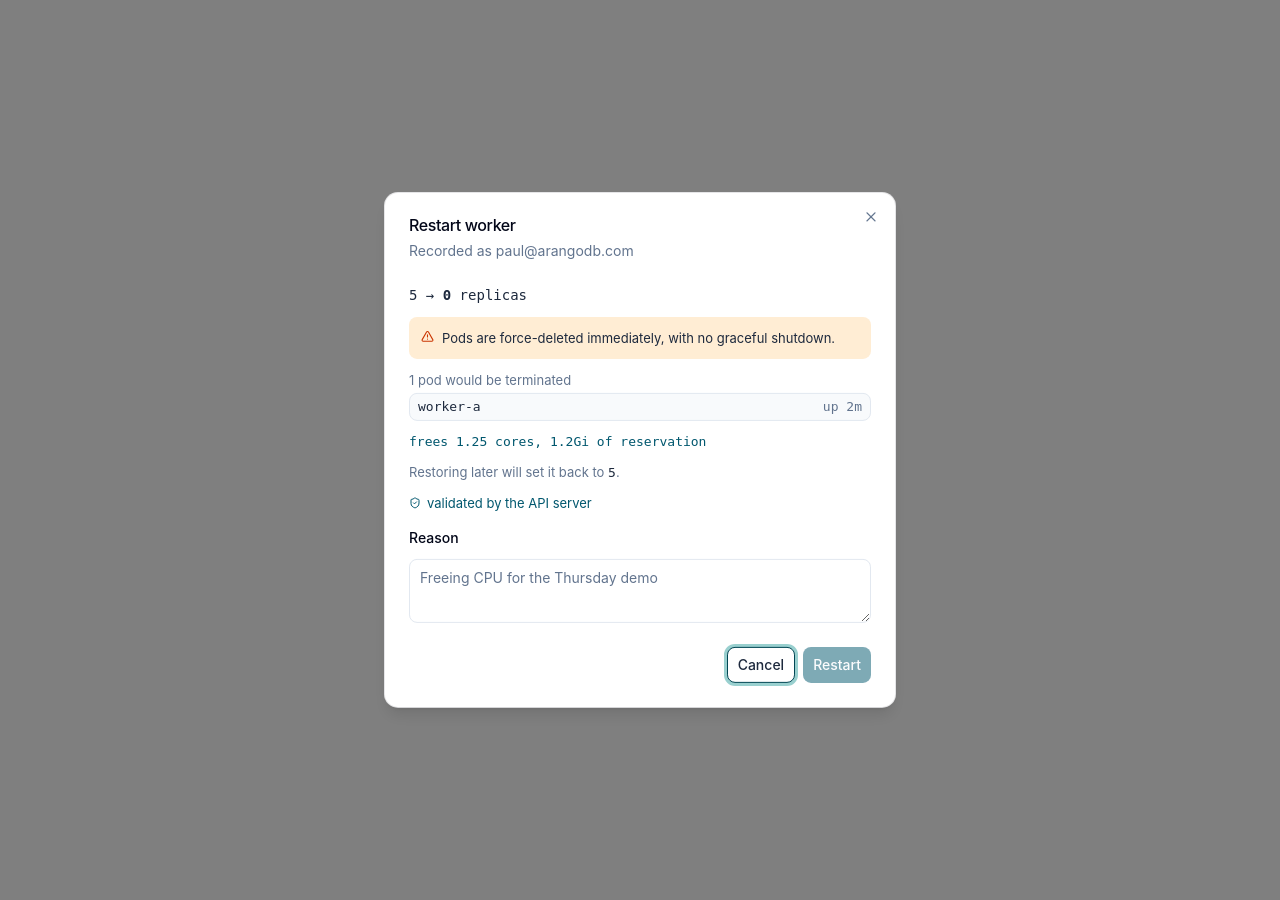
it: ActionDialog › does not accept a reason shorter than the backend allows
In the text box labelled "Reason": (640, 591) [409,559,871,623], type "ok"
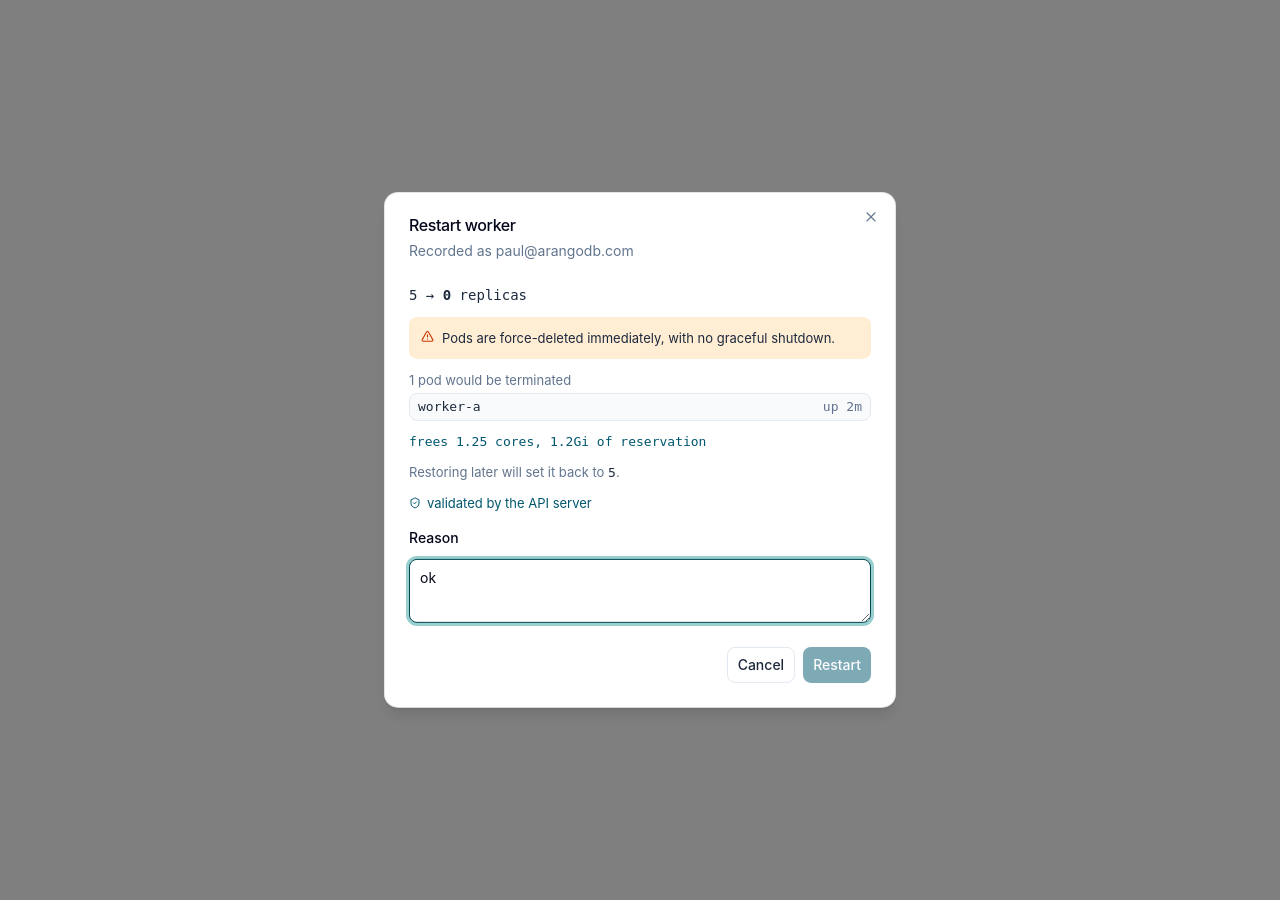
Check: the button "Restart" is disabled, box [803,647,871,683]
In the text box labelled "Reason": (640, 591) [409,559,871,623], type "!"
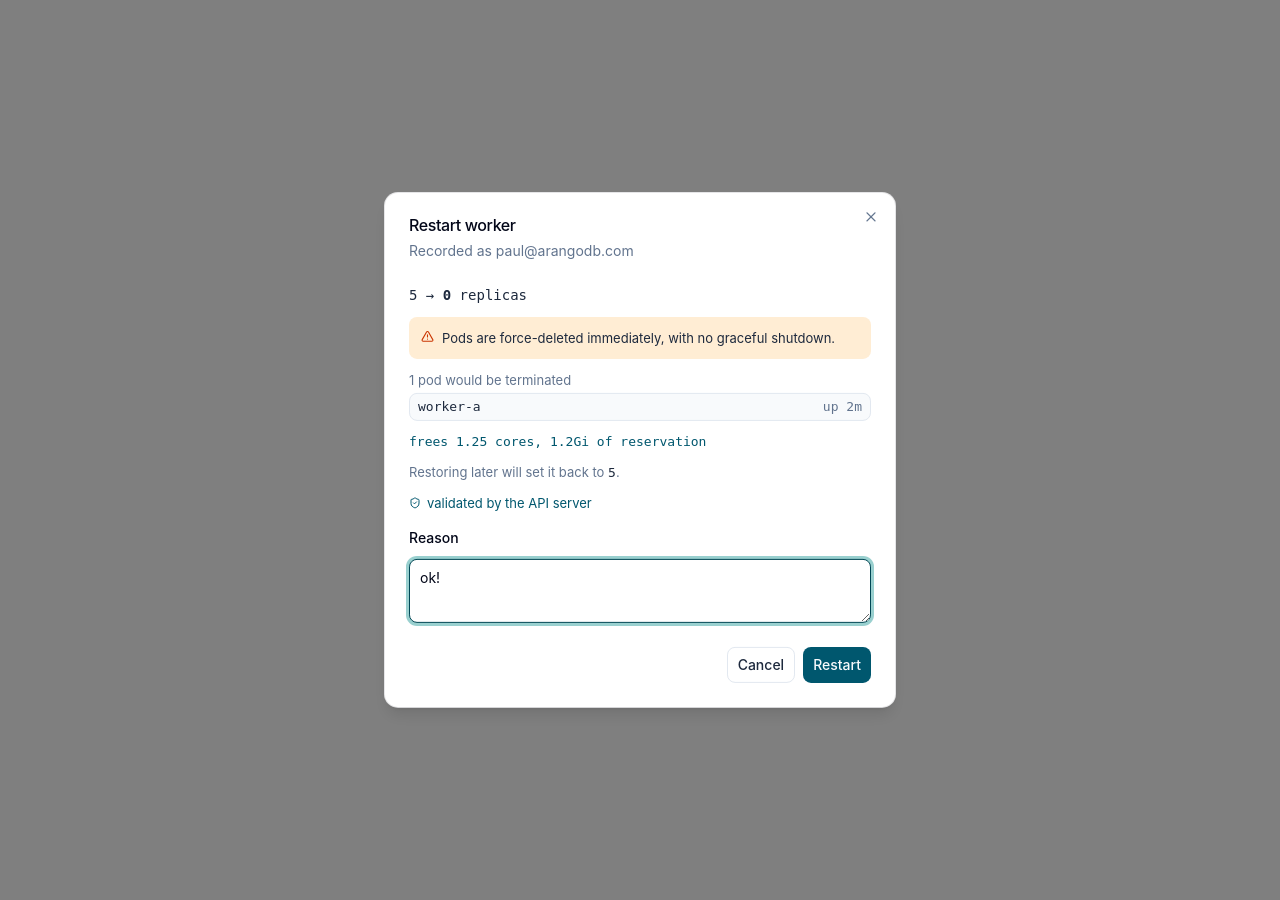
Check: the button "Restart" is enabled, box [803,647,871,683]
